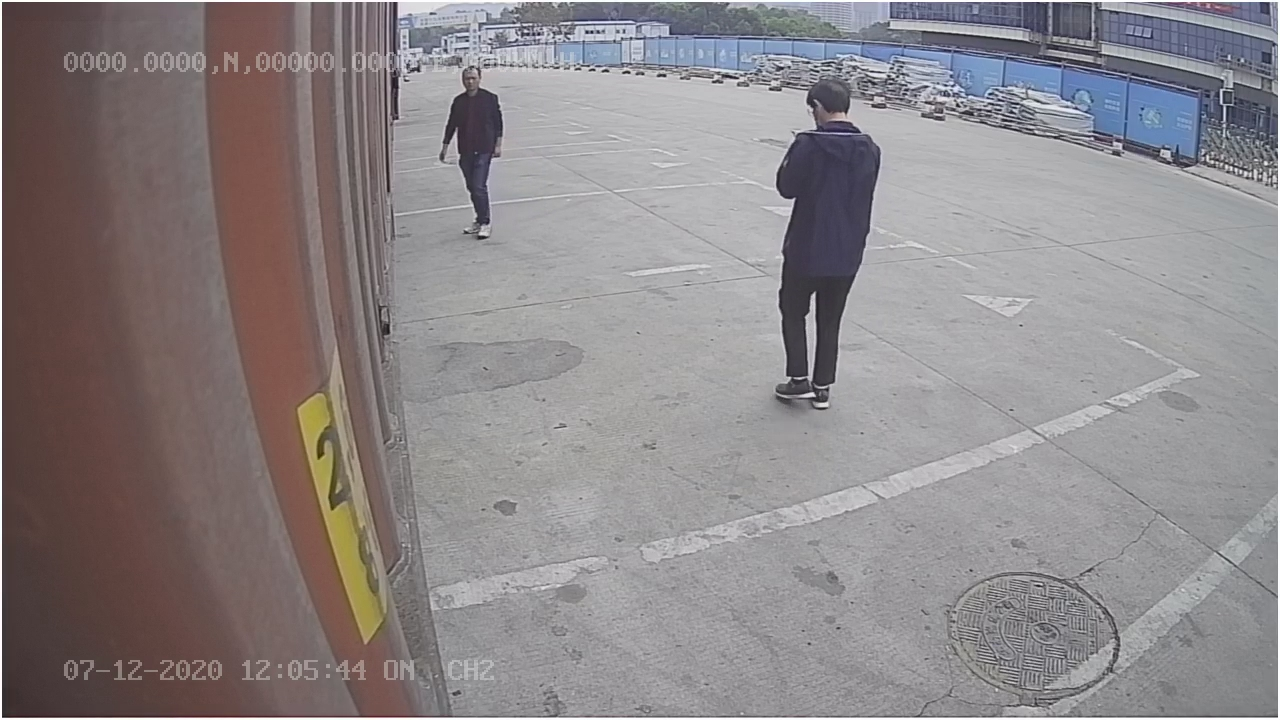person: (769, 77, 887, 406)
